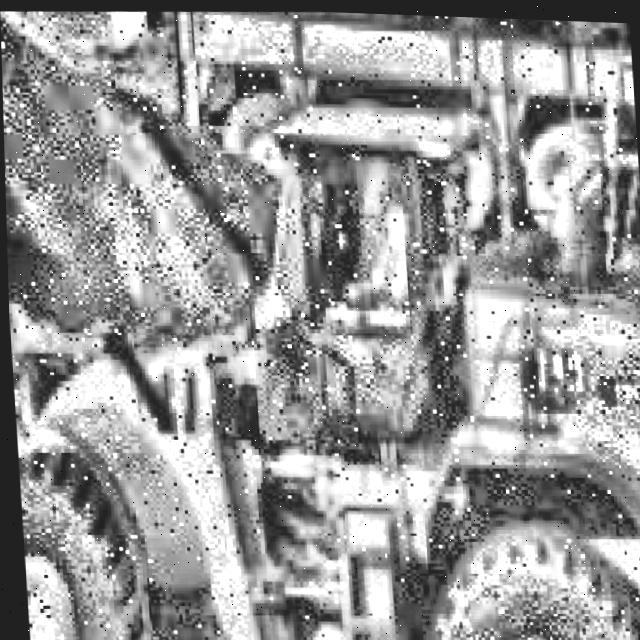buldozerpayloadergrader: (1, 63, 640, 640)
